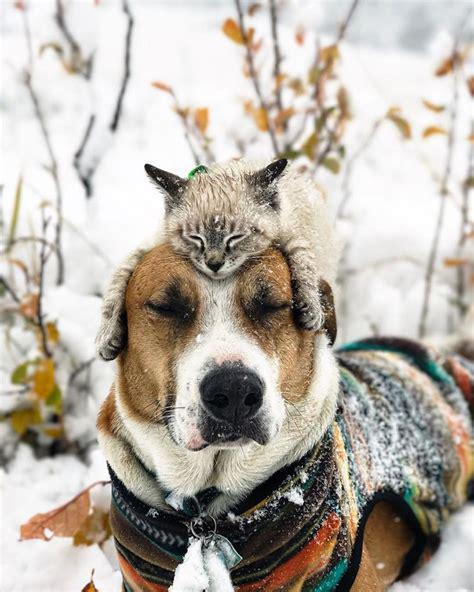cat: (98, 159, 320, 360)
dog: (94, 242, 474, 592)
